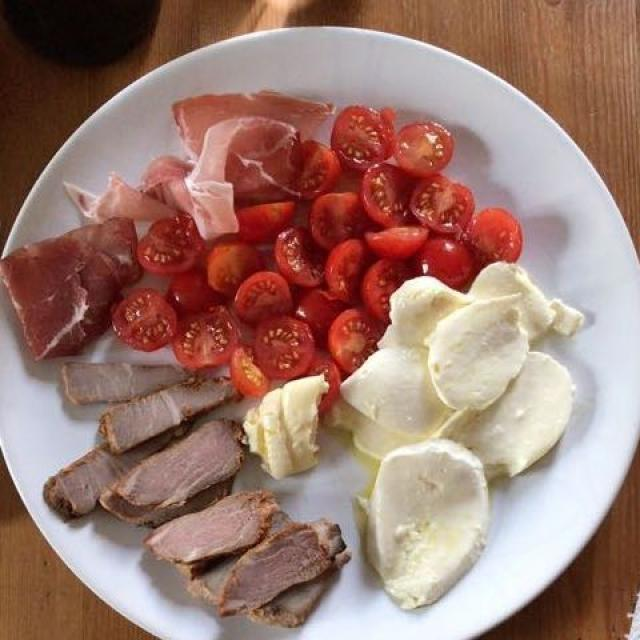dried-meat: (0, 208, 150, 381)
ham: (78, 69, 343, 235)
salad: (97, 106, 570, 598)
